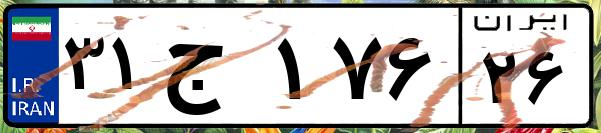1: (270, 28, 330, 110), (110, 28, 158, 98)
2: (475, 38, 525, 113)
3: (57, 26, 110, 100)
6: (385, 28, 445, 110), (525, 38, 570, 115)
7: (330, 28, 385, 110)
ج: (158, 20, 270, 120)
